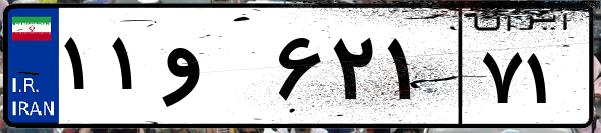1: (385, 28, 445, 110), (57, 26, 110, 100), (525, 38, 570, 115), (110, 28, 158, 98)
2: (330, 28, 385, 110)
6: (270, 28, 330, 110)
7: (475, 38, 525, 113)
و: (158, 20, 270, 120)
